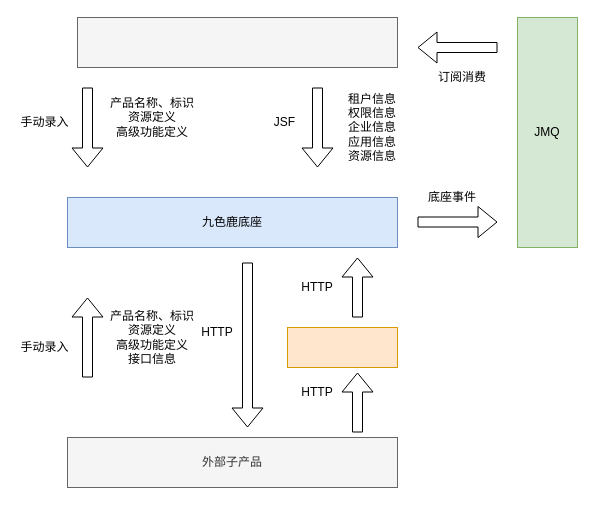
Image size: 595x505. Some labels were removed from this diagram. The box of each missing label's shape, as (x1, y1, x2, y2) in pixels:
九色鹿网关: (286, 326, 398, 368)
内部子产品: (76, 16, 398, 68)
